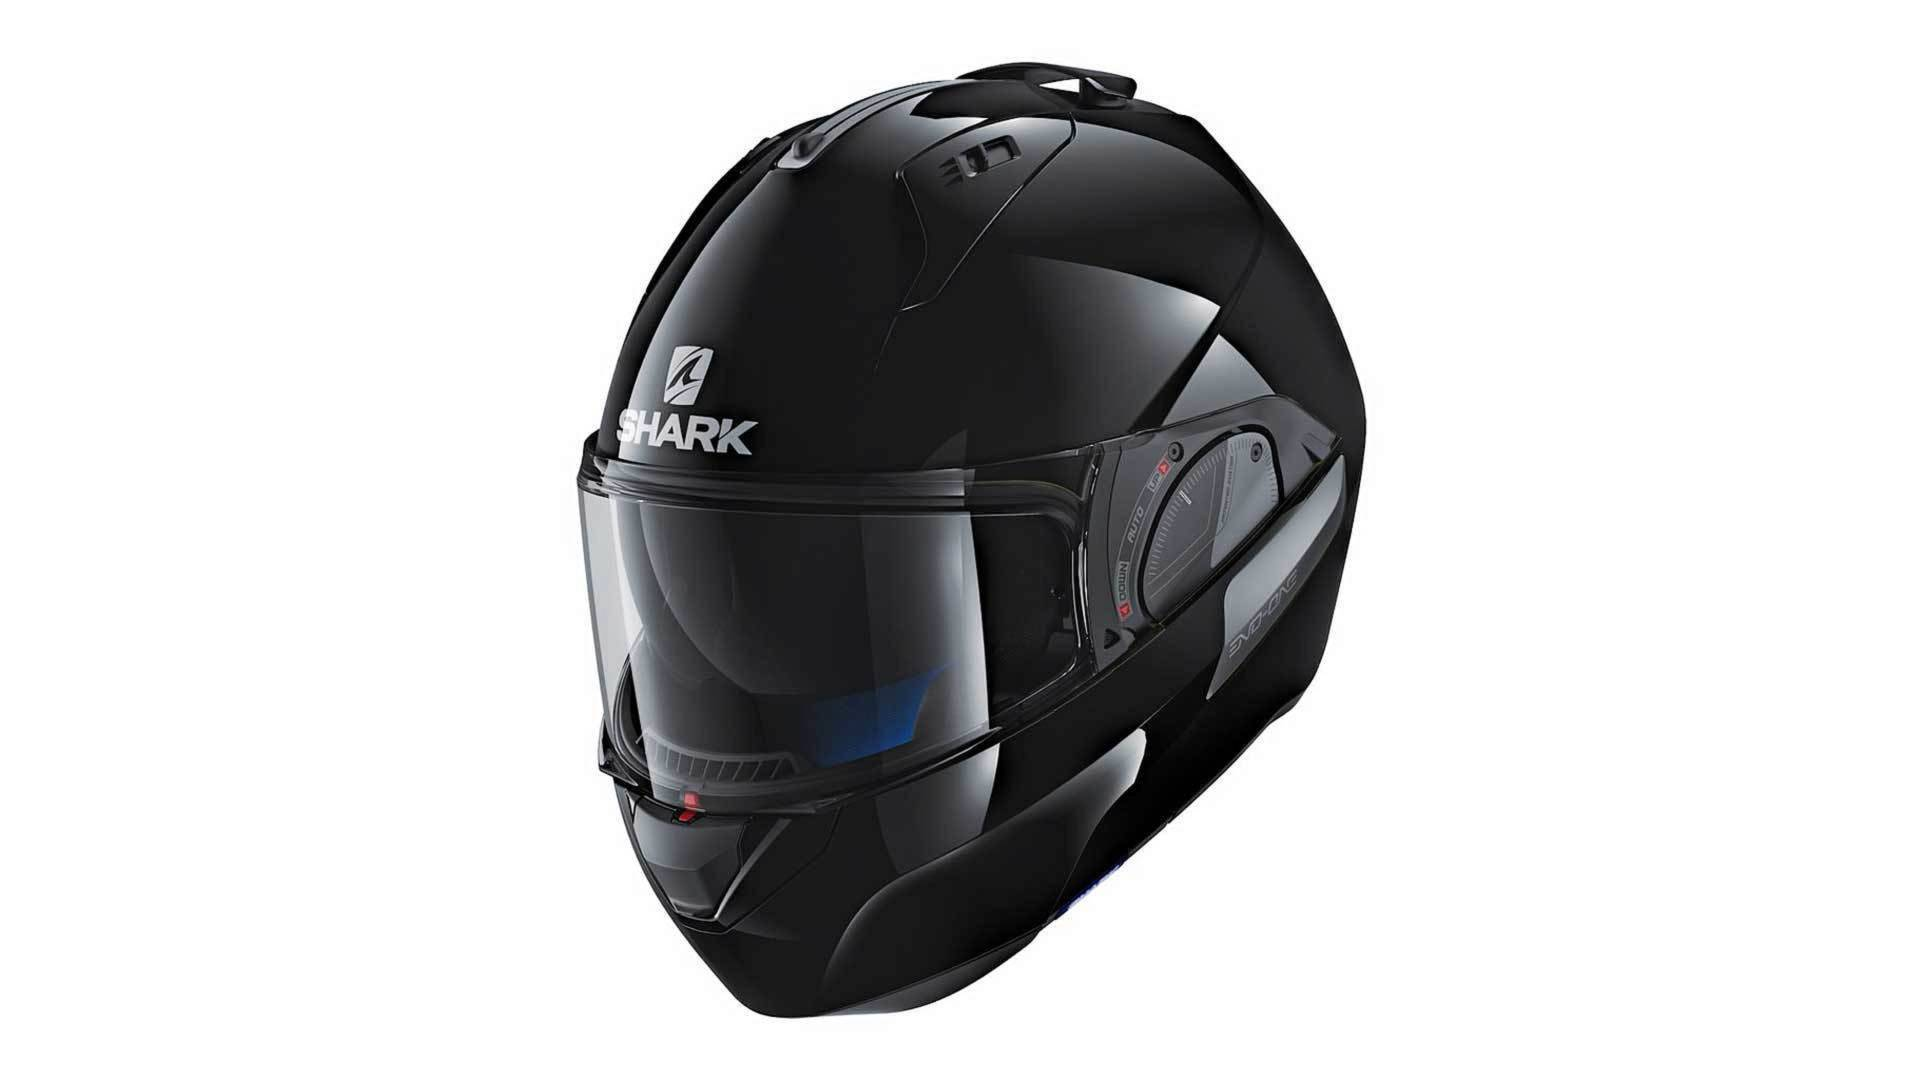with_helmet: (553, 40, 1378, 1039)
